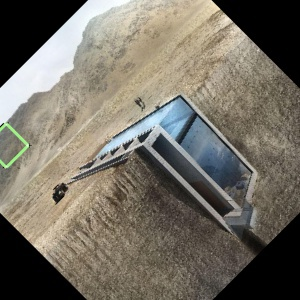square: (1, 120, 32, 171)
